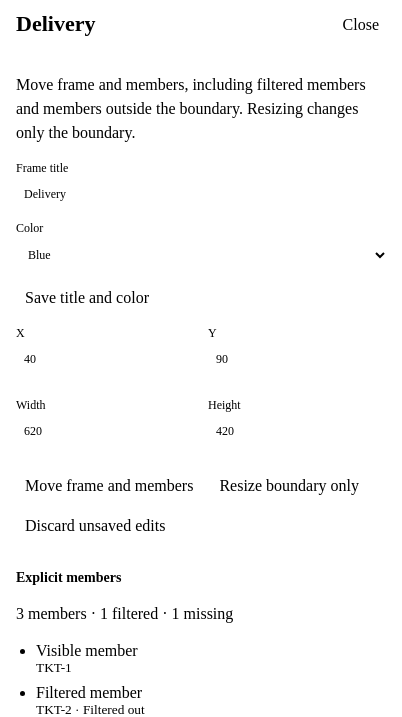
Scenario: ignores delayed completion after a keyed panel selection changes
Click the button "Move frame and members" at (109, 486), box [16,470,202,502]
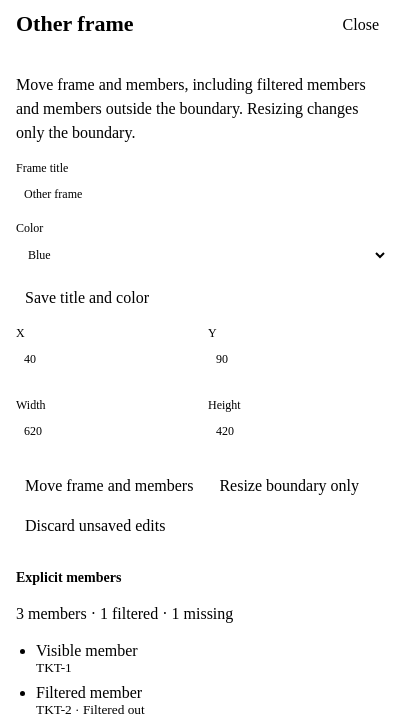
Result: the field labelled "Frame title" holds "Other frame" at [16,180,388,209]
